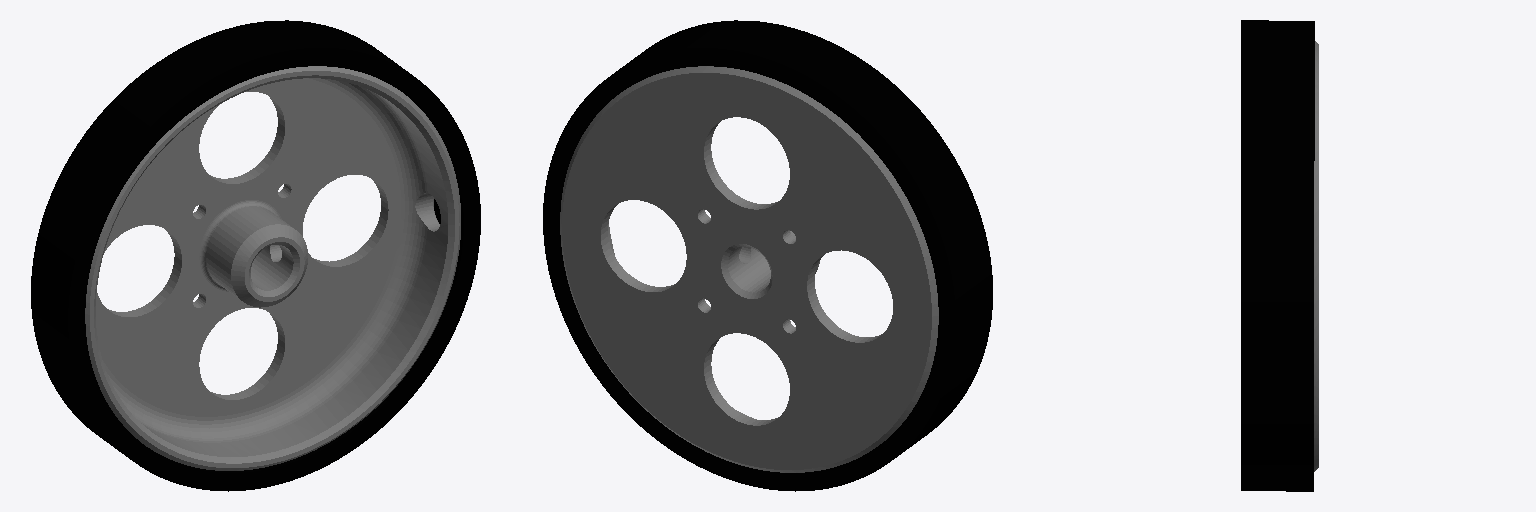
The robot description file, URDF, robot "raspimouse":
<?xml version="1.0"?>
<robot name="raspimouse">
  <link name="base_footprint"/>

  <joint name="base_joint" type="fixed">
    <origin xyz="0 0 0.00185"/>
    <parent link="base_footprint"/>
    <child link="base_link"/>
  </joint>

  <link name="base_link">
     <visual>
      <geometry>
        <mesh filename="package://raspimouse_description/meshes/dae/body/raspiMouse_body.dae"/>
      </geometry>
    </visual>
  </link>

  <joint name="left_wheel_joint" type="continuous">
    <origin xyz="0 0.0425 0.02215" rpy="-1.57 0 0"/>
    <axis xyz="0 0 1"/> 
    <parent link="base_link"/>
    <child link="left_wheel"/>
  </joint>
  
  <link name="left_wheel">
     <visual>
      <geometry>
        <mesh filename="package://raspimouse_description/meshes/dae/wheel/raspiMouse_wheel.dae"/>
      </geometry>
    </visual>
  </link>
  
  <joint name="right_wheel_joint" type="continuous">
    <origin xyz="0 -0.0425 0.02215" rpy="1.57 0 0"/>
    <axis xyz="0 0 1"/> 
    <parent link="base_link"/>
    <child link="right_wheel"/>
  </joint>
  
  <link name="right_wheel">
     <visual>
      <geometry>
        <mesh filename="package://raspimouse_description/meshes/dae/wheel/raspimouse_wheel.dae"/>
      </geometry>
    </visual>
  </link>
</robot>

--- What the picture shows (computed from the rendered views, not written in the file) ---
3 views of the same robot in one strip: view 1: azimuth 30°, elevation 25°; view 2: azimuth 150°, elevation 25°; view 3: azimuth 270°, elevation 25° (orthographic).
Robot: raspimouse — 4 links, 3 joints (2 continuous, 1 fixed); root link base_footprint; default pose: all joints at 0.
Links seen in each view (by area): view 1: right_wheel; view 2: right_wheel; view 3: right_wheel.
Link boxes in pixels (x1,y1,x2,y2): right_wheel: [31, 20, 480, 491]; right_wheel: [543, 20, 992, 491]; right_wheel: [1241, 20, 1318, 491].
Size in the robot's own frame: 0.048 by 0.008 by 0.048 metres.
1 mesh visuals loaded from 3 distinct referenced files (1 Collada DAE); not drawn: 2 (reference not matched to a file when rendering).